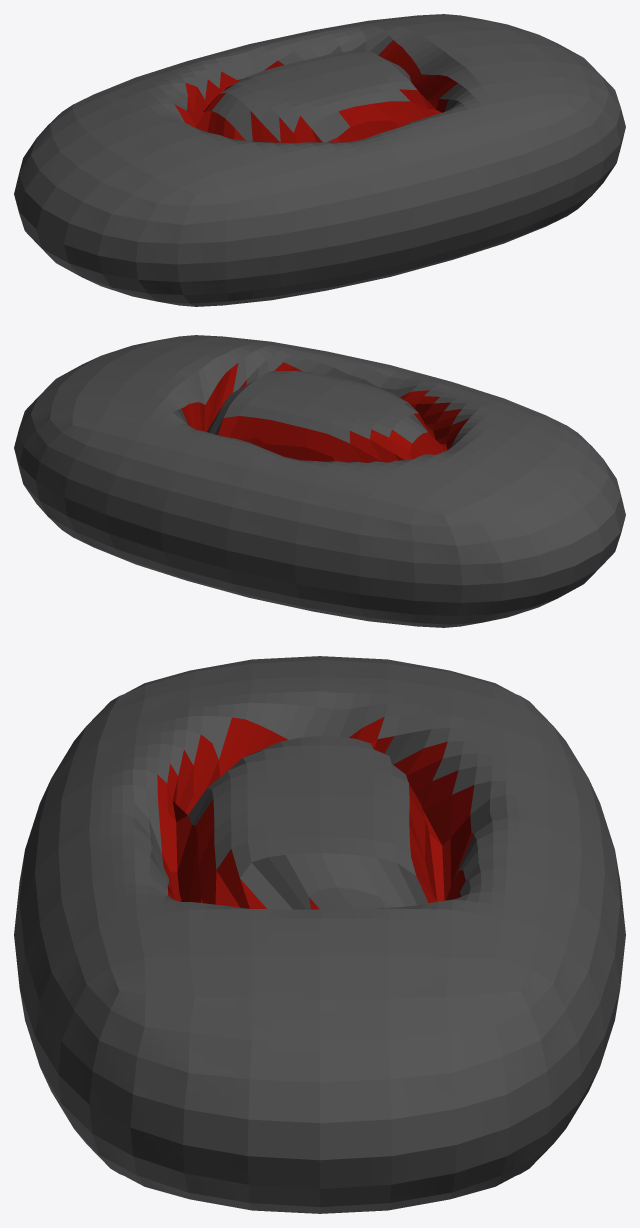
Rendered from Sigil_O.fbx.
3 renders of one model, top to bottom at view 1: azimuth 30°, elevation 25°; view 2: azimuth 150°, elevation 25°; view 3: azimuth 270°, elevation 25°, orthographic. The views are drawn at different scales.
Parts seen in each view (by area): view 1: Sigil_O; view 2: Sigil_O; view 3: Sigil_O.
Part boxes in pixels (x1,y1,x2,y2): Sigil_O: (14, 14, 625, 306); Sigil_O: (14, 335, 625, 627); Sigil_O: (14, 656, 625, 1213).
Bounding box in the file's own units: 59.86 × 17.27 × 34.36.
